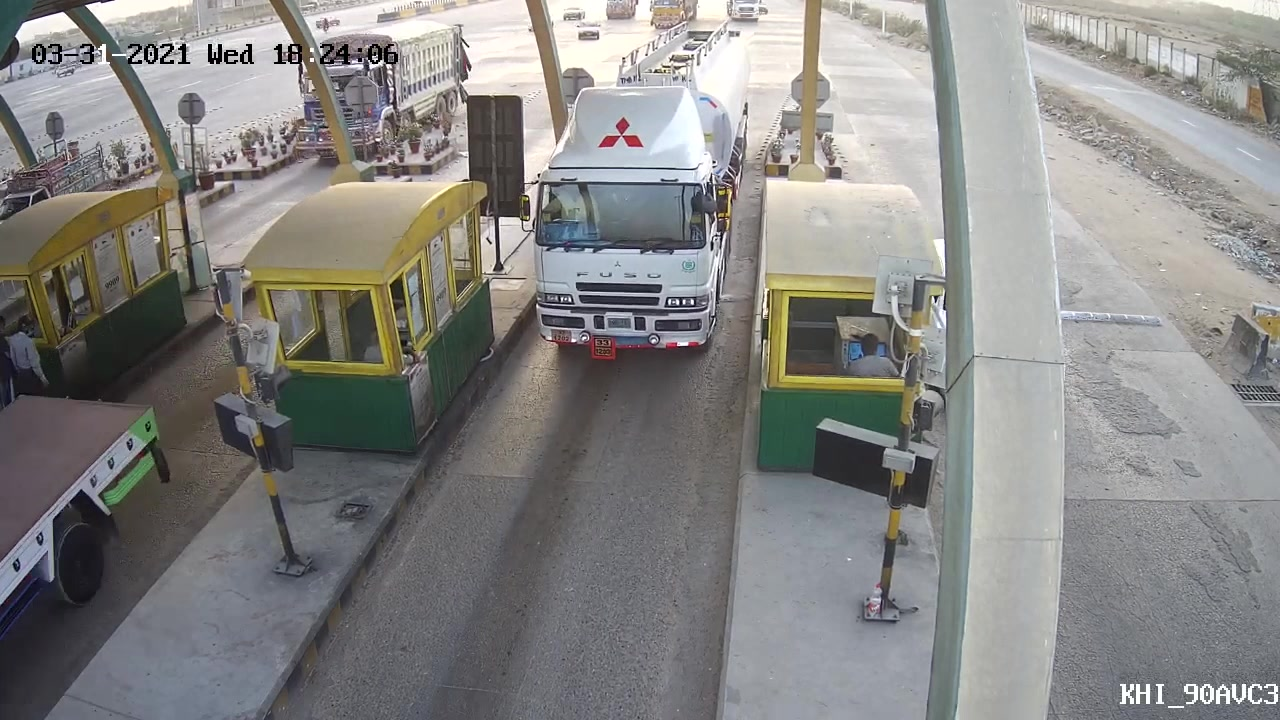F6: (511, 43, 759, 365)
